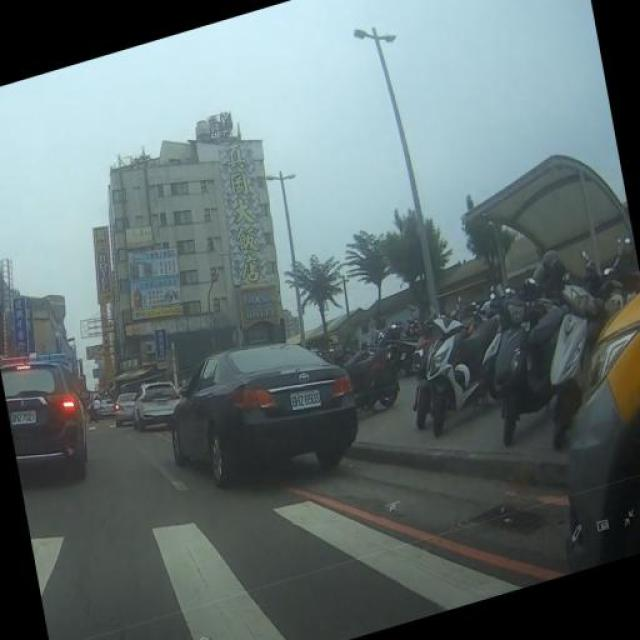Legalparking: (346, 235, 606, 455)
illegalparking: (162, 330, 370, 506)
